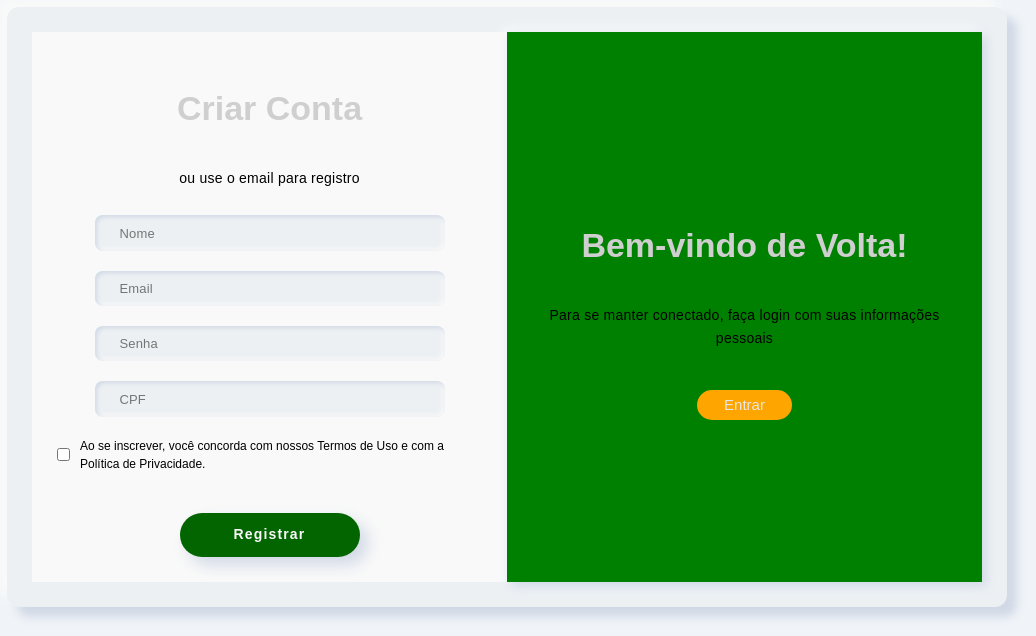
Scenario: Testes da página Register › Mostra erro se email já estiver registrado
This screenshot has width=1036, height=636.
Type "Fulano" into the field with placeholder "Nome" at {"x": 270, "y": 233}, box [94,215,444,251]
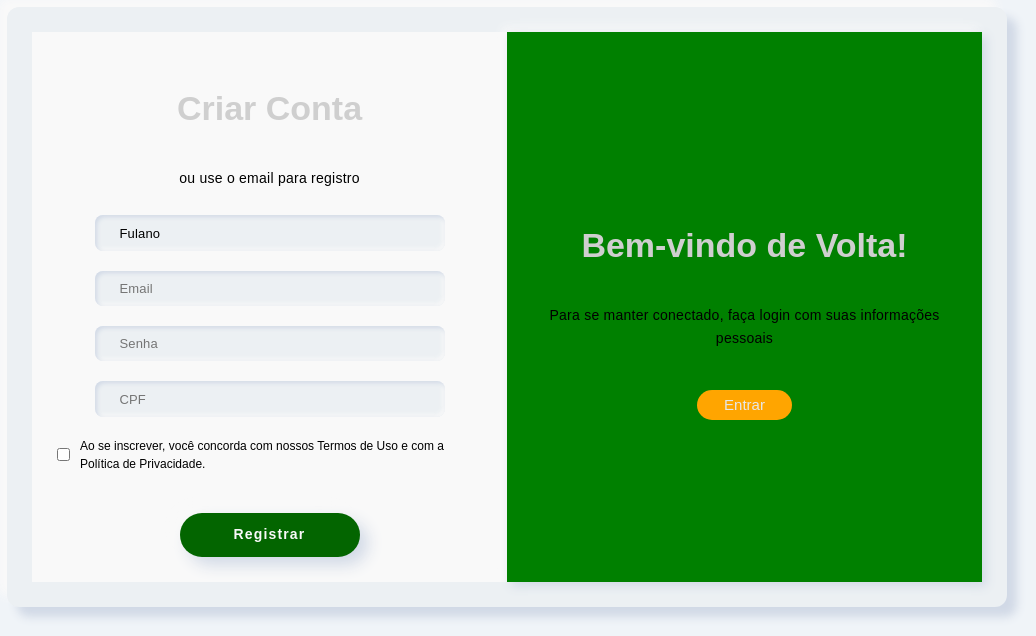
Type "teste@teste.com" into the field with placeholder "Email" at {"x": 270, "y": 288}, box [94,271,444,306]
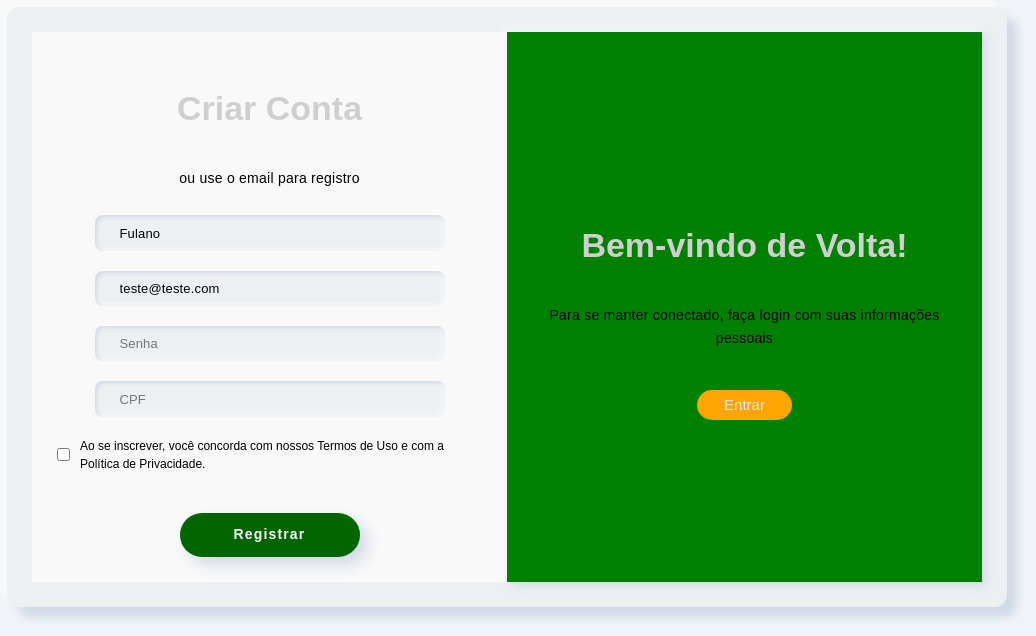
Type "123456" into the password field with placeholder "Senha" at {"x": 270, "y": 344}, box [94,326,444,362]
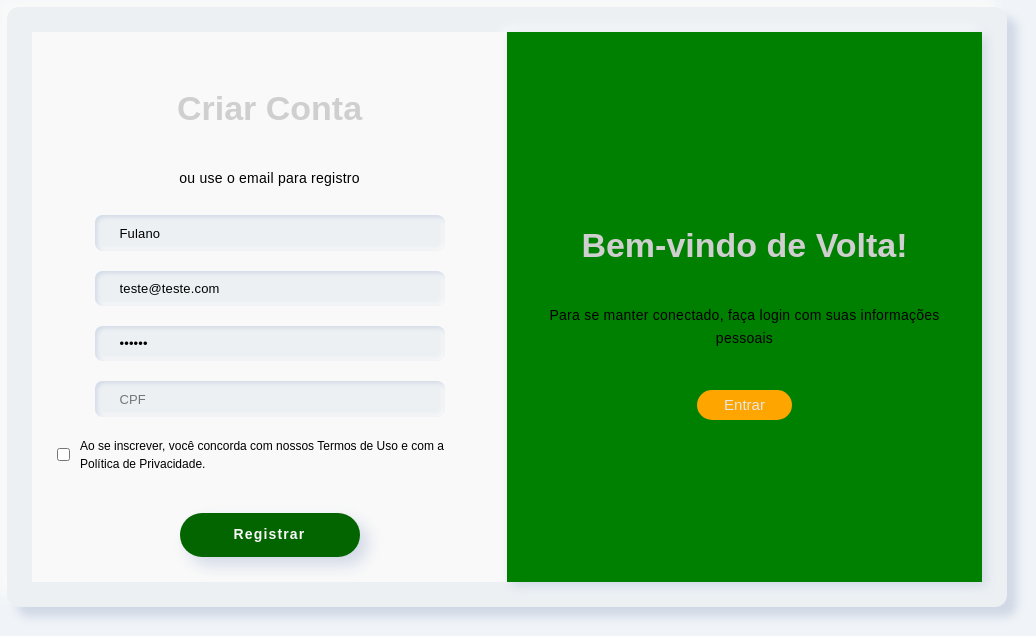
Type "12345678900" into the field with placeholder "CPF" at {"x": 270, "y": 399}, box [94,382,444,417]
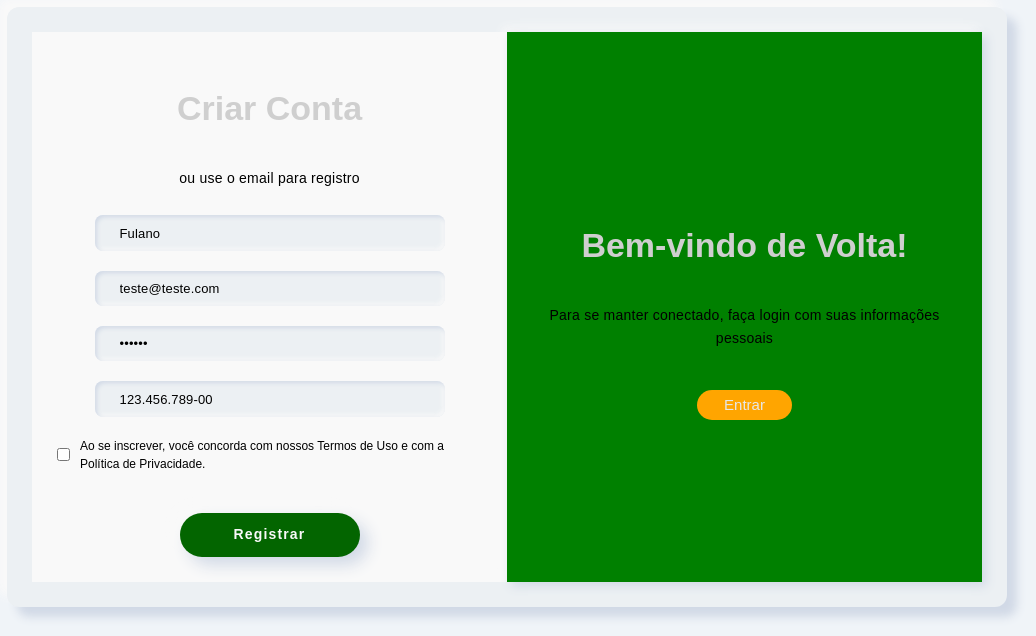
Click the checkbox at {"x": 64, "y": 455}, box [57,448,70,461]
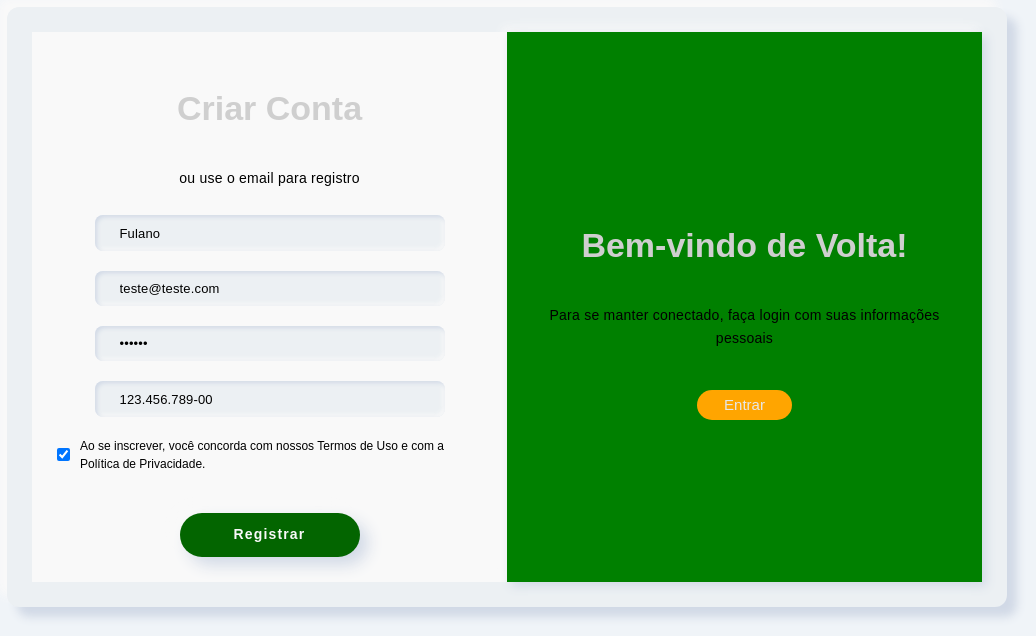
Click the button "Registrar" at {"x": 270, "y": 535}, box [180,513,360,557]
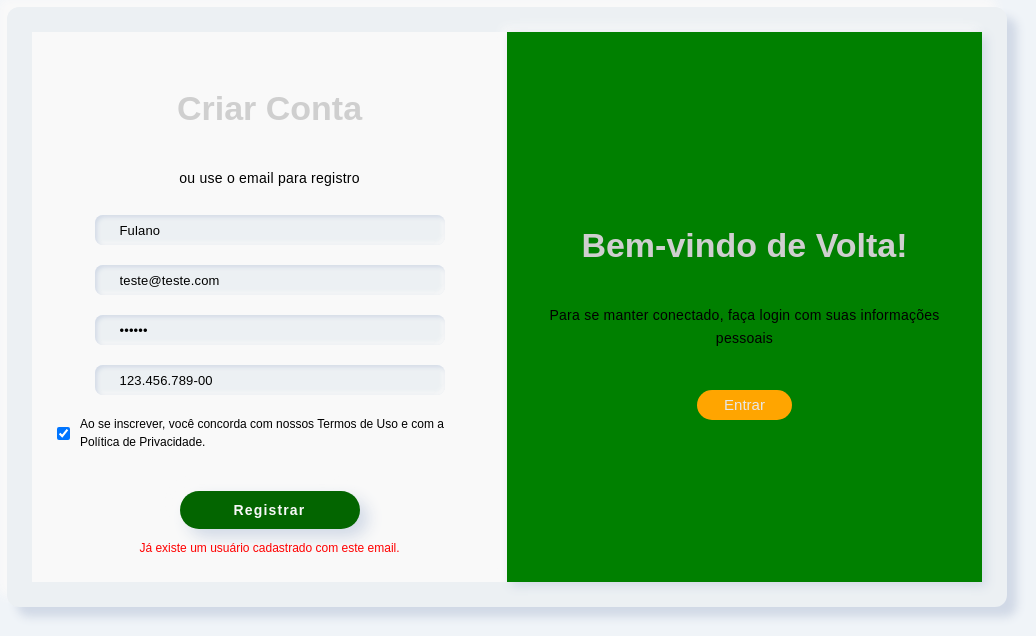
Result: the text "Já existe um usuário cadastrado com este email." is shown at [139,539,400,557]
